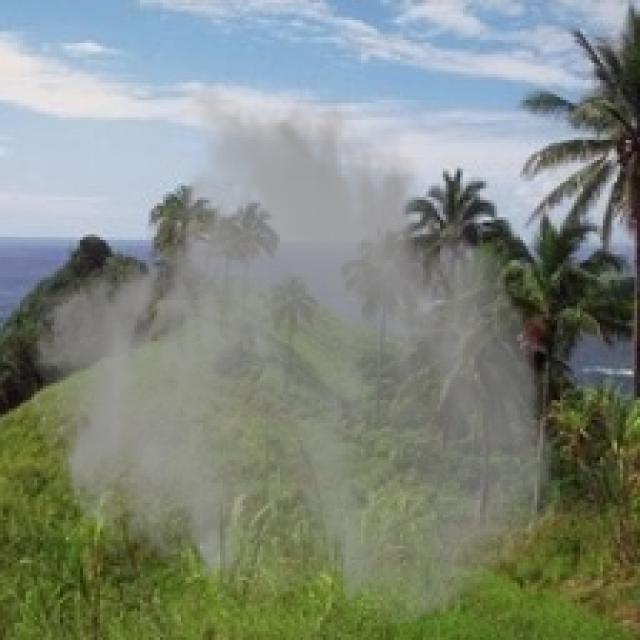smoke: (26, 80, 566, 629)
